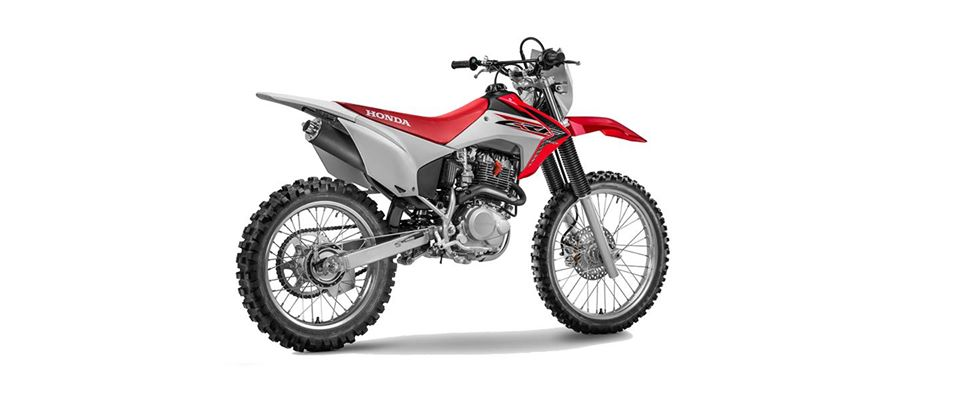moto: (235, 33, 670, 353)
